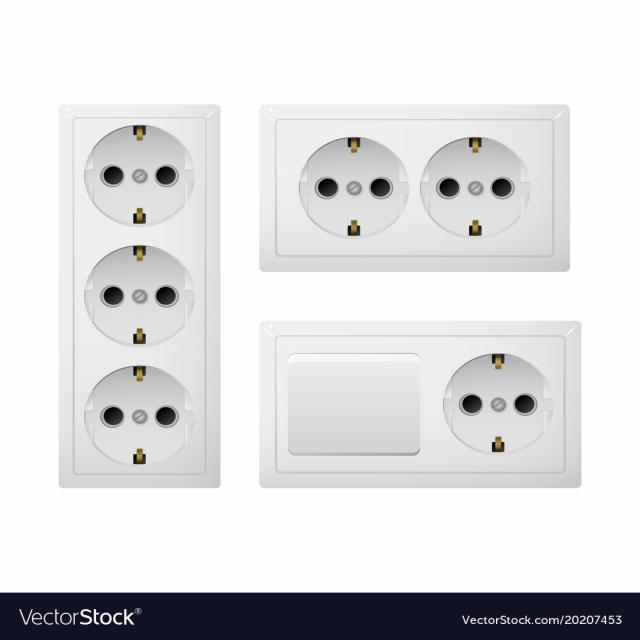typeb: (40, 92, 232, 503), (240, 309, 592, 504), (253, 93, 572, 284)
